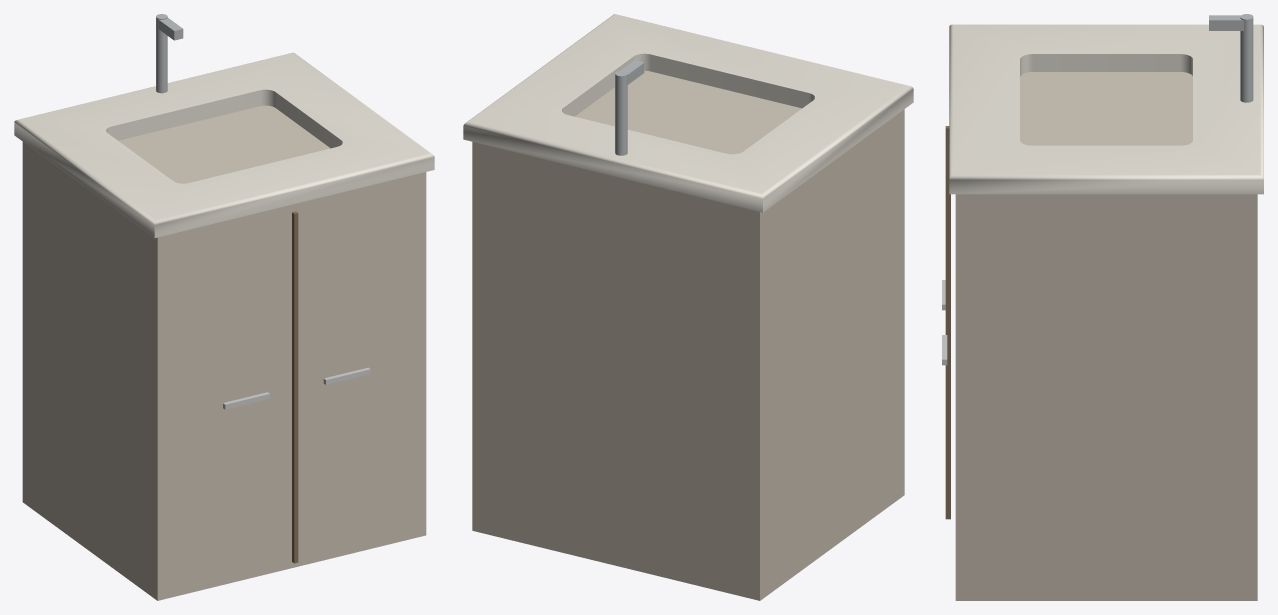
Rendered from sink_kitchen.glb.
3 renders of one model, left to right at view 1: azimuth 30°, elevation 25°; view 2: azimuth 150°, elevation 25°; view 3: azimuth 270°, elevation 25°, orthographic. The views are drawn at different scales.
Visible parts, largest first — view 1: cabinet, countertop, seam, faucet_riser; view 2: cabinet, countertop, faucet_riser; view 3: cabinet, countertop, seam, faucet_riser, faucet_spout.
Part boxes in pixels (x1=…): cabinet: x1=22, y1=105, x2=426, y2=600; countertop: x1=14, y1=52, x2=434, y2=237; seam: x1=292, y1=211, x2=298, y2=563; faucet_riser: x1=156, y1=14, x2=167, y2=93; cabinet: x1=472, y1=70, x2=904, y2=600; countertop: x1=463, y1=14, x2=913, y2=212; faucet_riser: x1=615, y1=71, x2=627, y2=155; cabinet: x1=955, y1=72, x2=1257, y2=600; countertop: x1=949, y1=24, x2=1263, y2=194; seam: x1=945, y1=126, x2=950, y2=519; faucet_riser: x1=1240, y1=14, x2=1253, y2=102; faucet_spout: x1=1209, y1=15, x2=1243, y2=30.
Bounding box in the file's own units: 0.701 × 1.09 × 0.6236.
